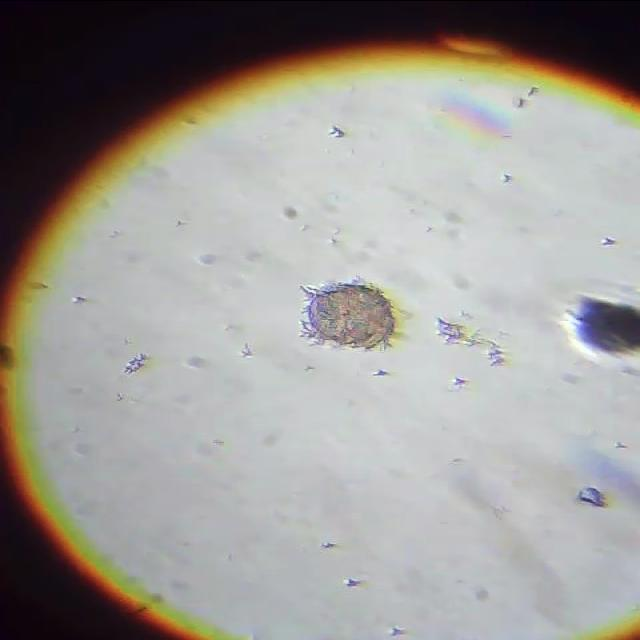alexandrium: (297, 275, 398, 351)
alexandrium minutum: (570, 285, 640, 363)
